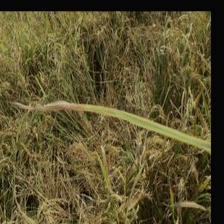Leaf_Blast: (8, 85, 156, 133)
